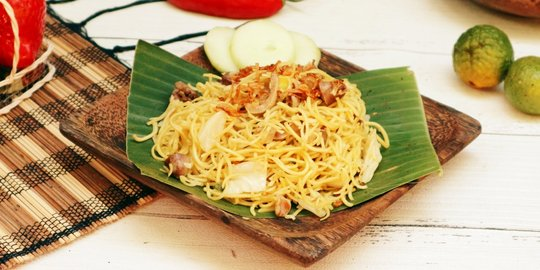Mie: (129, 66, 395, 258)
